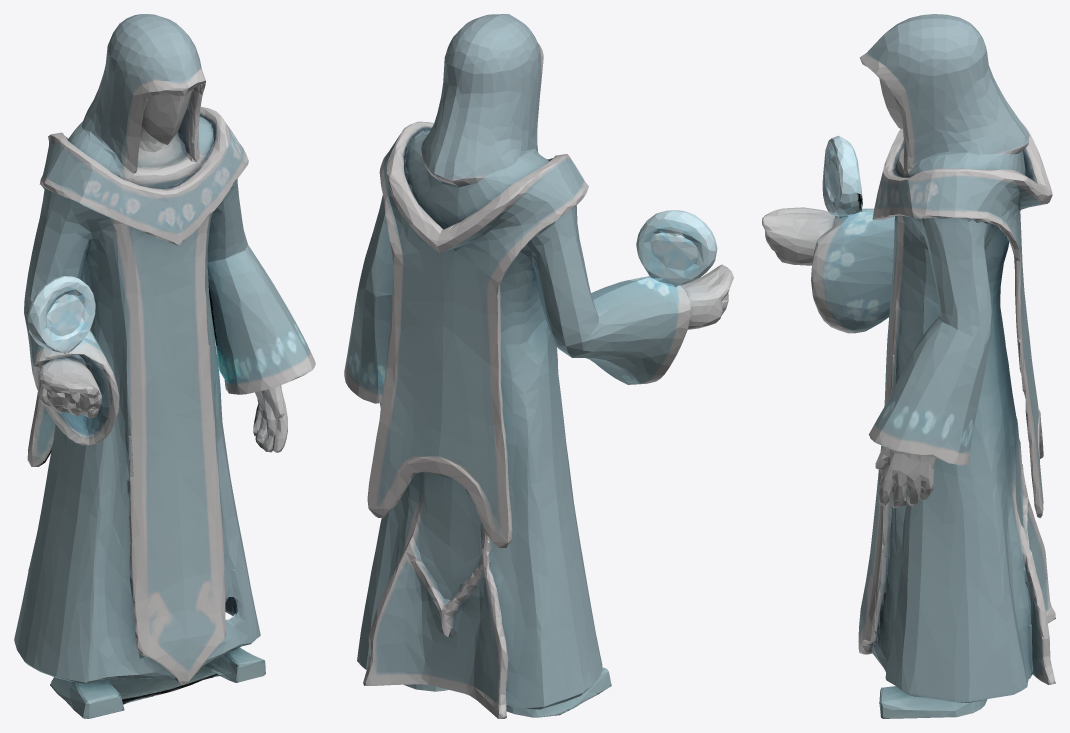
The model's file is Unit-12.glb.
3 views of the same model, side by side, from view 1: azimuth 30°, elevation 25°; view 2: azimuth 150°, elevation 25°; view 3: azimuth 270°, elevation 25° (orthographic).
Parts seen in each view (by area): view 1: world; view 2: world; view 3: world.
Boxes of the visible parts, bbox=[...] form: world: bbox=[14, 14, 315, 718]; world: bbox=[344, 14, 733, 718]; world: bbox=[762, 14, 1055, 718].
Size of the model in its own units: 0.5086 by 1 by 0.405.
1 material, 1 textured.
